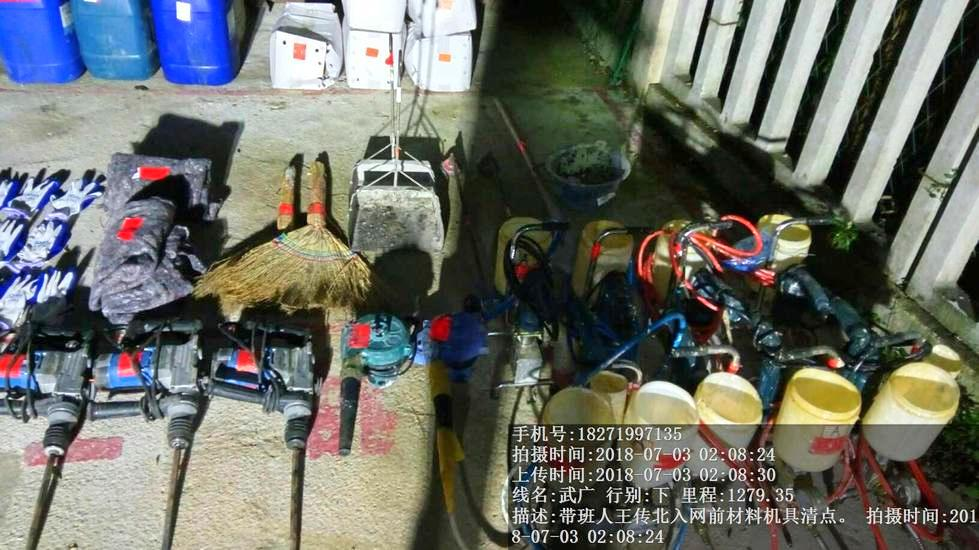DZ: (95, 329, 214, 498), (215, 320, 328, 494), (1, 328, 95, 495)
GFJ: (336, 312, 411, 457), (417, 303, 485, 454)
SB: (217, 153, 364, 312)
SNT: (551, 139, 632, 212)
